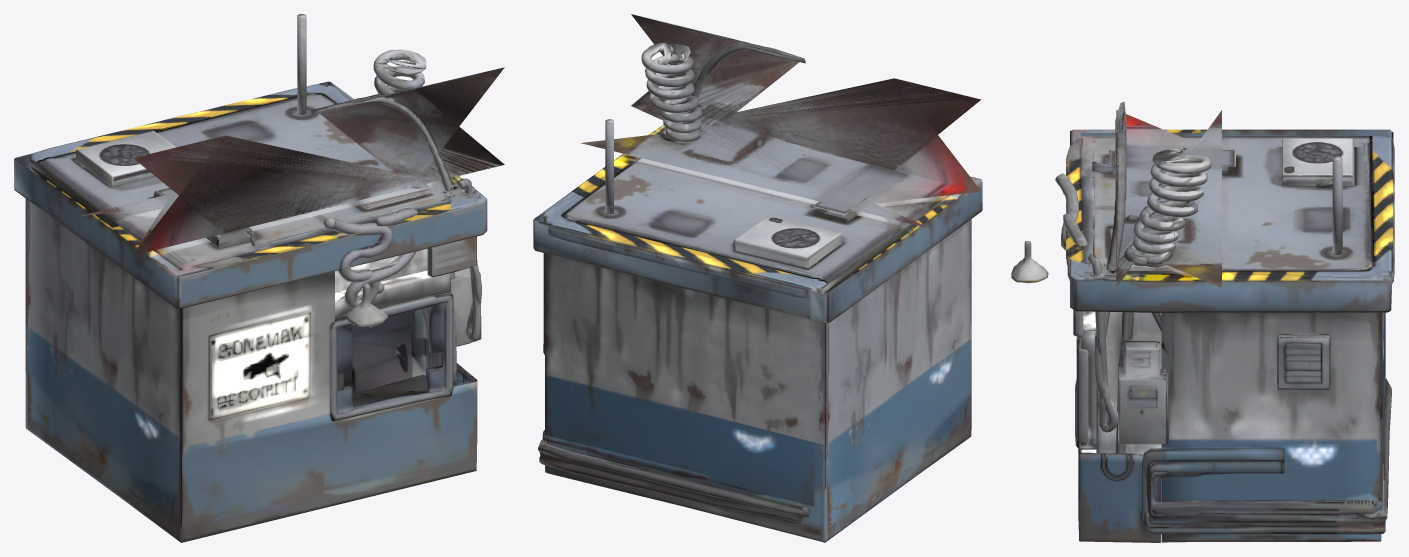
The model's file is Meshy_AI_Rusty_Security_Booth_0509102422_texture.fbx.
The picture shows the model from 3 angles, left to right: view 1: azimuth 30°, elevation 25°; view 2: azimuth 150°, elevation 25°; view 3: azimuth 270°, elevation 25°; orthographic projection. The views are drawn at different scales.
Visible parts, largest first — view 1: Mesh_0; view 2: Mesh_0; view 3: Mesh_0.
Boxes of the visible parts, left/top/right/bottom form: Mesh_0: left=14, top=14, right=504, bottom=542; Mesh_0: left=533, top=14, right=982, bottom=542; Mesh_0: left=1011, top=101, right=1394, bottom=542.
Bounding box in the file's own units: 200 × 195 × 182.
Materials: 1 (1 with a texture image).
